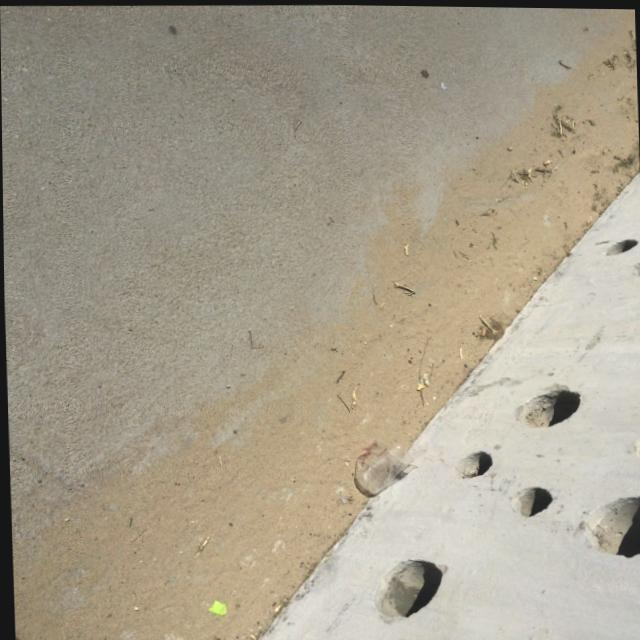Plastic: (348, 434, 415, 500), (204, 597, 232, 618)
